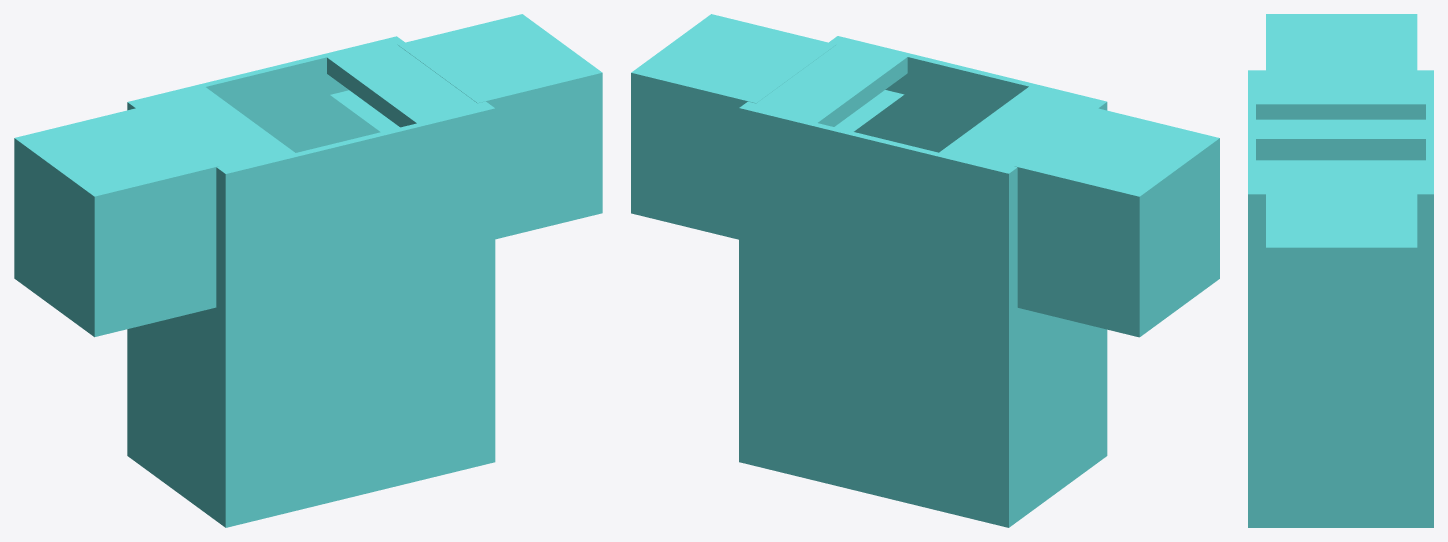
File: IceShield.fbx
3 views of the same model, side by side, from view 1: azimuth 30°, elevation 25°; view 2: azimuth 150°, elevation 25°; view 3: azimuth 270°, elevation 25° (orthographic). The views are drawn at different scales.
Parts seen in each view (by area): view 1: body, right arm001, left arm002; view 2: body, right arm001, left arm002; view 3: body, left arm002, right arm001.
Part boxes in pixels (x1,y1,x2,y2): body: [127, 36, 495, 527]; right arm001: [14, 107, 219, 337]; left arm002: [397, 14, 602, 239]; body: [739, 36, 1107, 527]; right arm001: [1014, 107, 1219, 337]; left arm002: [631, 14, 836, 239]; body: [1248, 70, 1433, 527]; left arm002: [1266, 190, 1417, 380]; right arm001: [1266, 14, 1417, 160].
Size of the model in its own units: 65.29 by 43.47 by 21.92.
